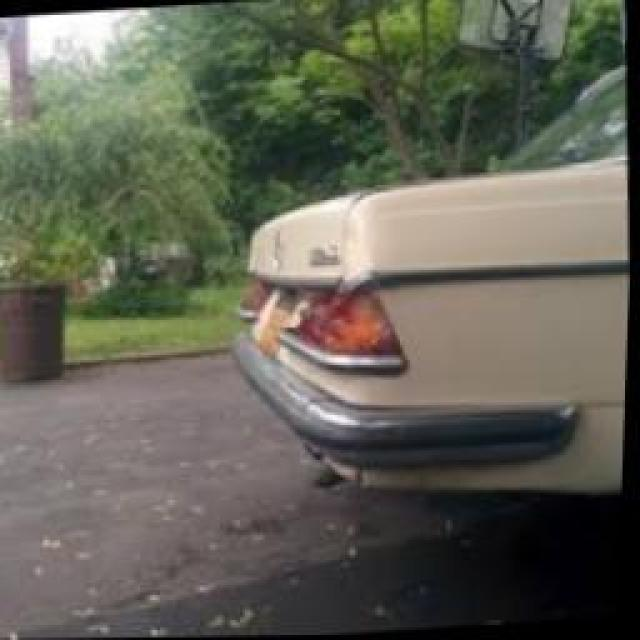Light: (280, 258, 424, 382)
